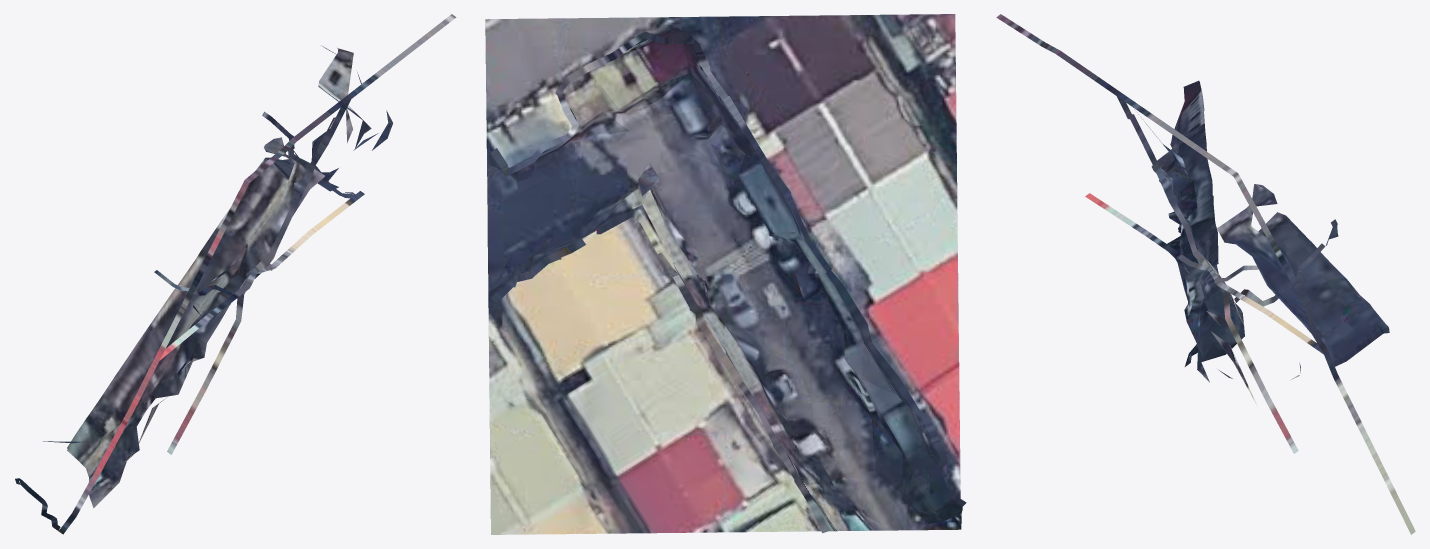
3 renders of one model, left to right at view 1: azimuth 30°, elevation 25°; view 2: azimuth 150°, elevation 25°; view 3: azimuth 270°, elevation 25°, orthographic. The views are drawn at different scales.
Size of the model in its own units: 40.58 by 35.98 by 32.44.
1 material, 1 textured.
